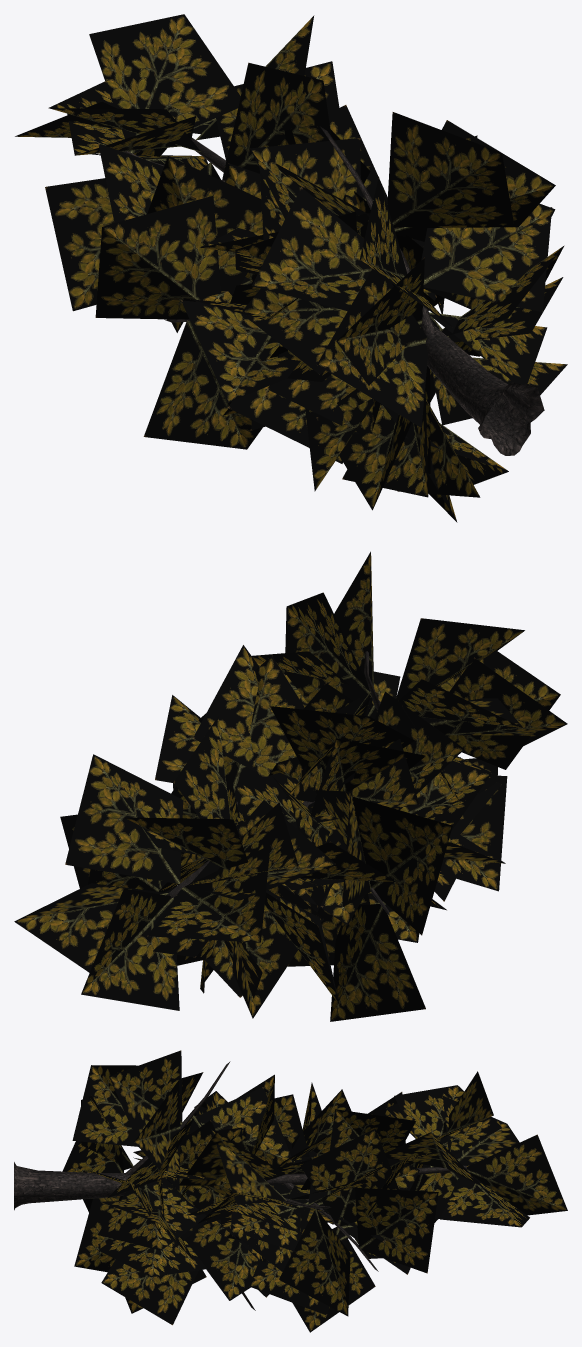
The model's file is tree_7.obj.
3 views of the same model, one above another, from view 1: azimuth 30°, elevation 25°; view 2: azimuth 150°, elevation 25°; view 3: azimuth 270°, elevation 25° (orthographic). The views are drawn at different scales.
Parts seen in each view (by area): view 1: tree_7_leaves, tree_7; view 2: tree_7_leaves, tree_7; view 3: tree_7_leaves, tree_7.
Boxes of the visible parts, bbox=[...] form: tree_7_leaves: bbox=[15, 14, 567, 522]; tree_7: bbox=[123, 126, 544, 455]; tree_7_leaves: bbox=[14, 551, 567, 1021]; tree_7: bbox=[166, 651, 389, 915]; tree_7_leaves: bbox=[62, 1050, 567, 1332]; tree_7: bbox=[14, 1061, 466, 1310].
Size of the model in its own units: 4.53 by 4.26 by 8.29.
